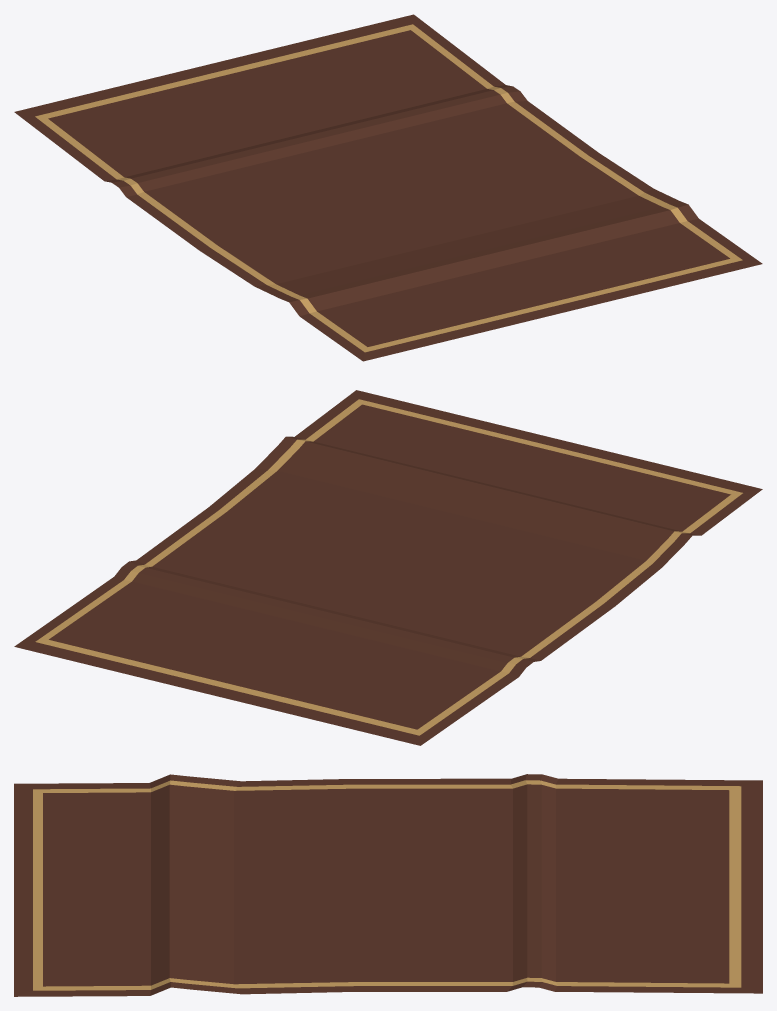
Rendered from home_carpet_1.fbx.
3 renders of one model, top to bottom at view 1: azimuth 30°, elevation 25°; view 2: azimuth 150°, elevation 25°; view 3: azimuth 270°, elevation 25°, orthographic. The views are drawn at different scales.
Visible parts, largest first — view 1: home_carpet_1; view 2: home_carpet_1; view 3: home_carpet_1.
Part boxes in pixels (x1,y1,x2,y2): home_carpet_1: (14, 14, 762, 361); home_carpet_1: (14, 390, 762, 745); home_carpet_1: (14, 774, 762, 996).
Size of the model in its own units: 2.4 by 0.0413 by 3.48.
